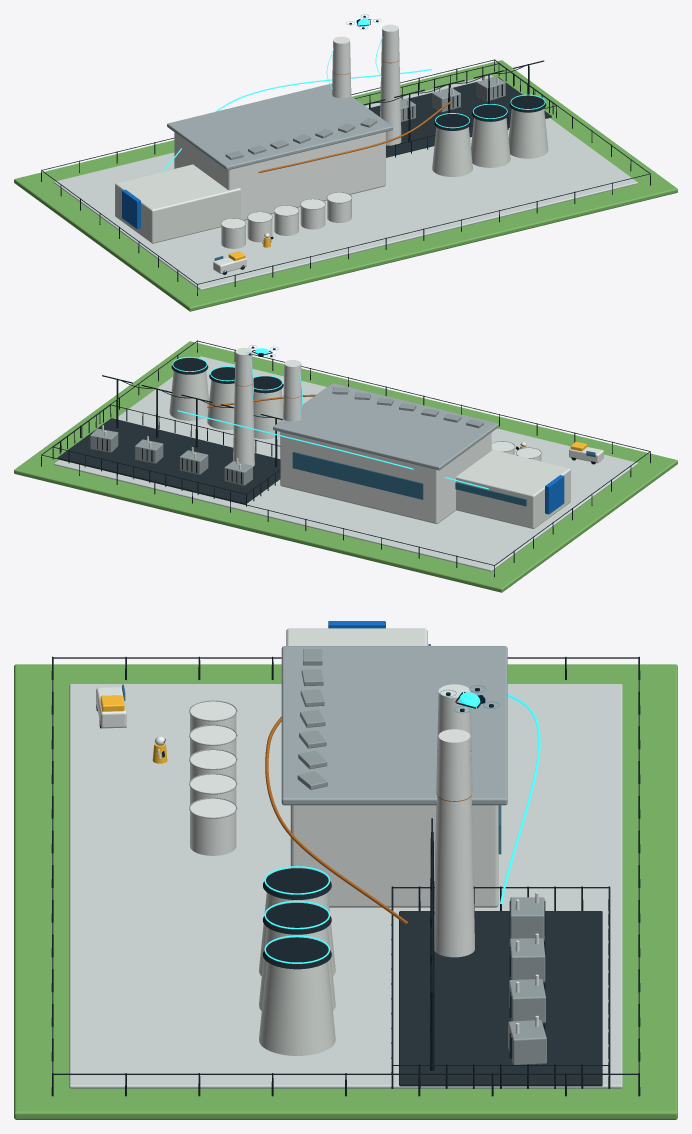
Rendered from rj3-final-power-station.glb.
3 renders of one model, top to bottom at view 1: azimuth 30°, elevation 25°; view 2: azimuth 150°, elevation 25°; view 3: azimuth 270°, elevation 25°, orthographic. The views are drawn at different scales.
Parts seen in each view (by area): view 1: power station concrete operating slab, power station landscaped industrial base, power station turbine roof mechanical deck, power station turbine hall white shell, power station control annex, power yard graphite gravel slab, power station tapered stack 2 concrete shell, power station cooling tower 1, power station cooling tower 3, power station cooling tower 2, power station tapered stack 1 concrete shell, power station fuel water tank 4 (+12 smaller); view 2: power station landscaped industrial base, power station concrete operating slab, power station turbine hall white shell, power station turbine roof mechanical deck, power yard graphite gravel slab, power station control annex, power station tapered stack 2 concrete shell, power station turbine hall dark glazed bay, power station cooling tower 3, power station cooling tower 1, power station tapered stack 1 concrete shell, power station cooling tower 2 (+12 smaller); view 3: power station concrete operating slab, power station landscaped industrial base, power station turbine roof mechanical deck, power yard graphite gravel slab, power station turbine hall white shell, power station tapered stack 2 concrete shell, power station cooling tower 3, power station control annex, power station fuel water tank 5, power station tapered stack 1 concrete shell, power station cooling tower 3 dark rim, power station cooling tower 1 dark rim (+16 smaller).
Boxes of the visible parts, <box> form: power station concrete operating slab: <box>54,75,637,290</box>; power station landscaped industrial base: <box>14,60,677,311</box>; power station turbine roof mechanical deck: <box>167,83,392,170</box>; power station turbine hall white shell: <box>174,132,385,220</box>; power station control annex: <box>115,164,240,243</box>; power yard graphite gravel slab: <box>368,77,551,157</box>; power station tapered stack 2 concrete shell: <box>380,24,401,145</box>; power station cooling tower 1: <box>432,127,472,176</box>; power station cooling tower 3: <box>508,108,548,158</box>; power station cooling tower 2: <box>471,118,510,167</box>; power station tapered stack 1 concrete shell: <box>332,36,351,98</box>; power station fuel water tank 4: <box>300,199,325,229</box>; power station landscaped industrial base: <box>14,341,677,592</box>; power station concrete operating slab: <box>54,356,637,571</box>; power station turbine hall white shell: <box>280,432,491,523</box>; power station turbine roof mechanical deck: <box>273,383,498,470</box>; power yard graphite gravel slab: <box>57,418,280,504</box>; power station control annex: <box>456,449,570,528</box>; power station tapered stack 2 concrete shell: <box>233,348,254,466</box>; power station turbine hall dark glazed bay: <box>292,452,423,499</box>; power station cooling tower 3: <box>169,371,208,420</box>; power station cooling tower 1: <box>253,389,283,439</box>; power station tapered stack 1 concrete shell: <box>283,360,302,421</box>; power station cooling tower 2: <box>207,380,234,429</box>; power station concrete operating slab: <box>69,684,622,1088</box>; power station landscaped industrial base: <box>14,664,677,1119</box>; power station turbine roof mechanical deck: <box>281,646,507,805</box>; power yard graphite gravel slab: <box>399,911,602,1086</box>; power station turbine hall white shell: <box>290,805,498,907</box>; power station tapered stack 2 concrete shell: <box>434,729,474,957</box>; power station cooling tower 3: <box>259,961,335,1055</box>; power station control annex: <box>286,628,427,645</box>; power station fuel water tank 5: <box>190,798,236,855</box>; power station tapered stack 1 concrete shell: <box>434,684,474,908</box>; power station cooling tower 3 dark rim: <box>262,937,331,969</box>; power station cooling tower 1 dark rim: <box>263,868,331,899</box>.
Size of the model in its own units: 48 by 12.39 by 30.
